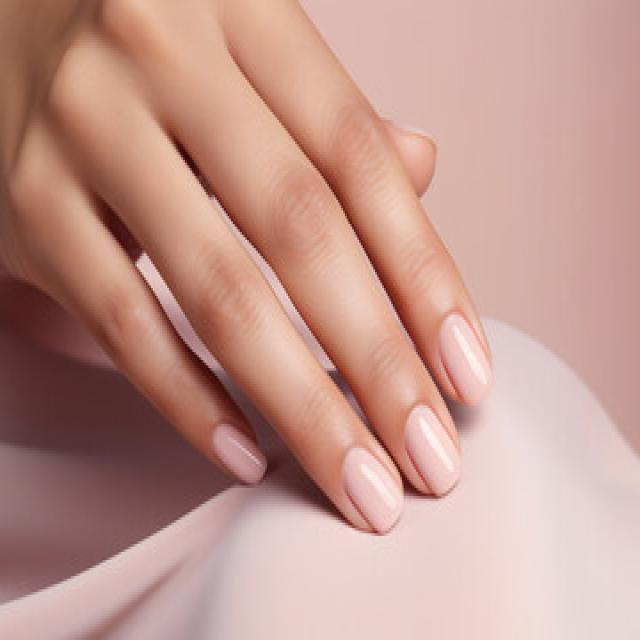Fingernail: (341, 445, 405, 534), (404, 404, 463, 497), (441, 313, 493, 407), (214, 424, 268, 485)
